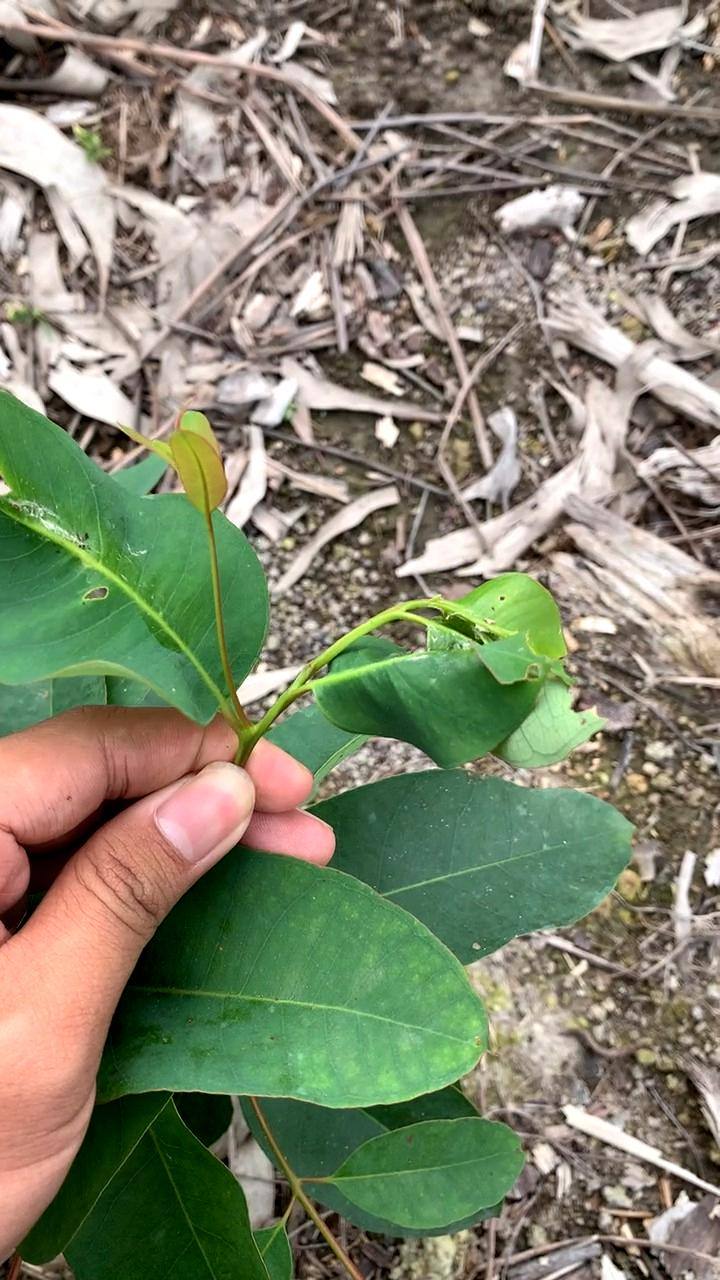Leaf Roller - Leaf: (300, 568, 609, 779)
